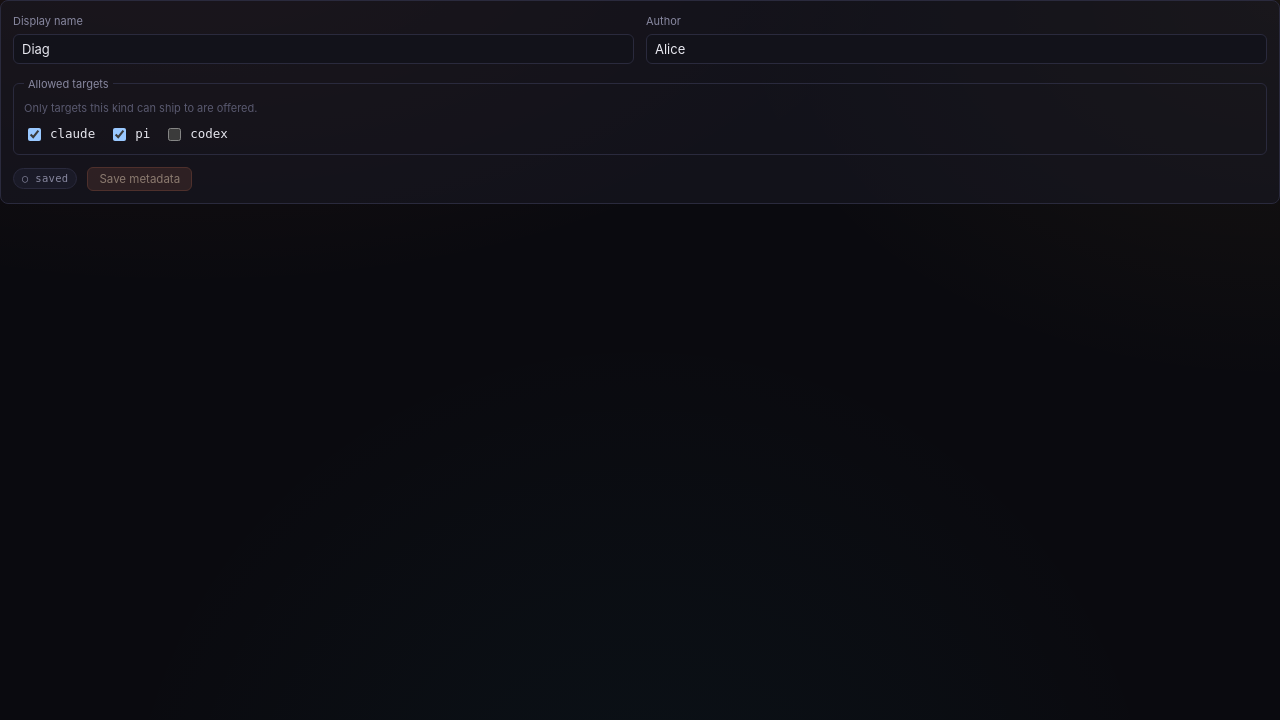
Test: MetadataForm — dropping a target › Cancel on the confirm aborts without re-issuing
The image size is (1280, 720).
Click the checkbox labelled "claude" at (34, 134), box [28,128,41,140]
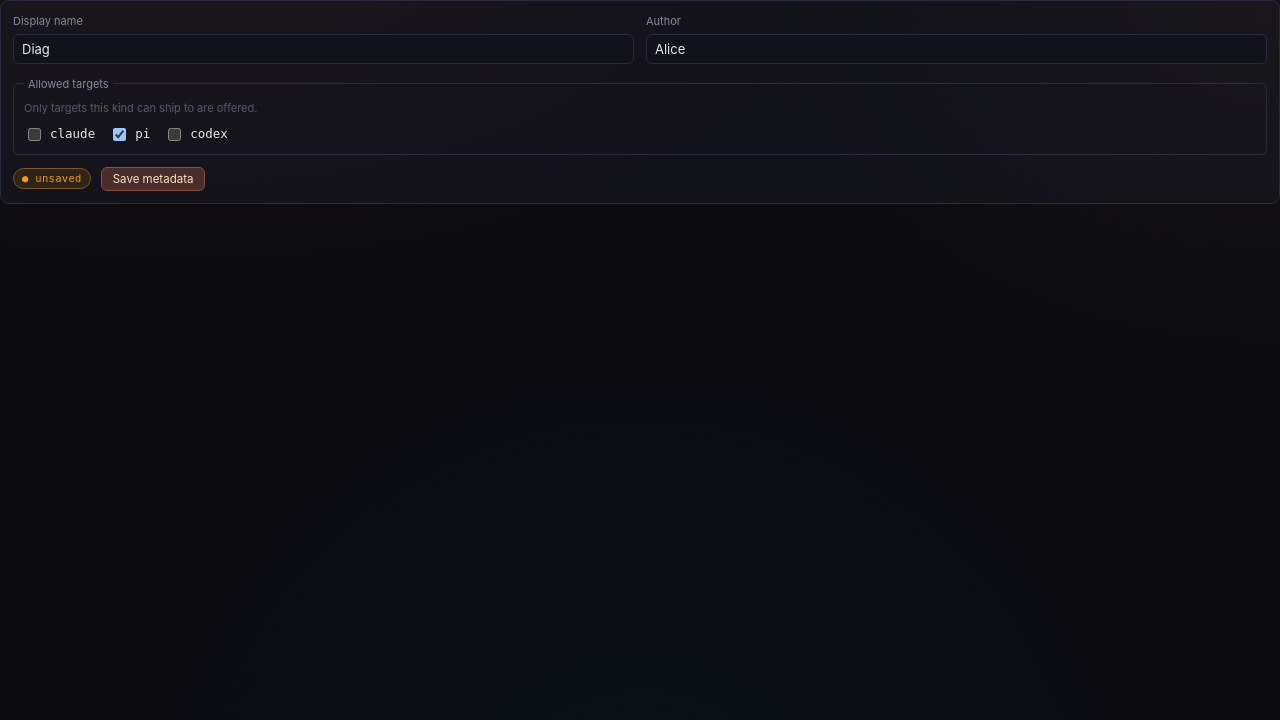
Click the button "Save metadata" at (153, 178), box [101,166,205,190]
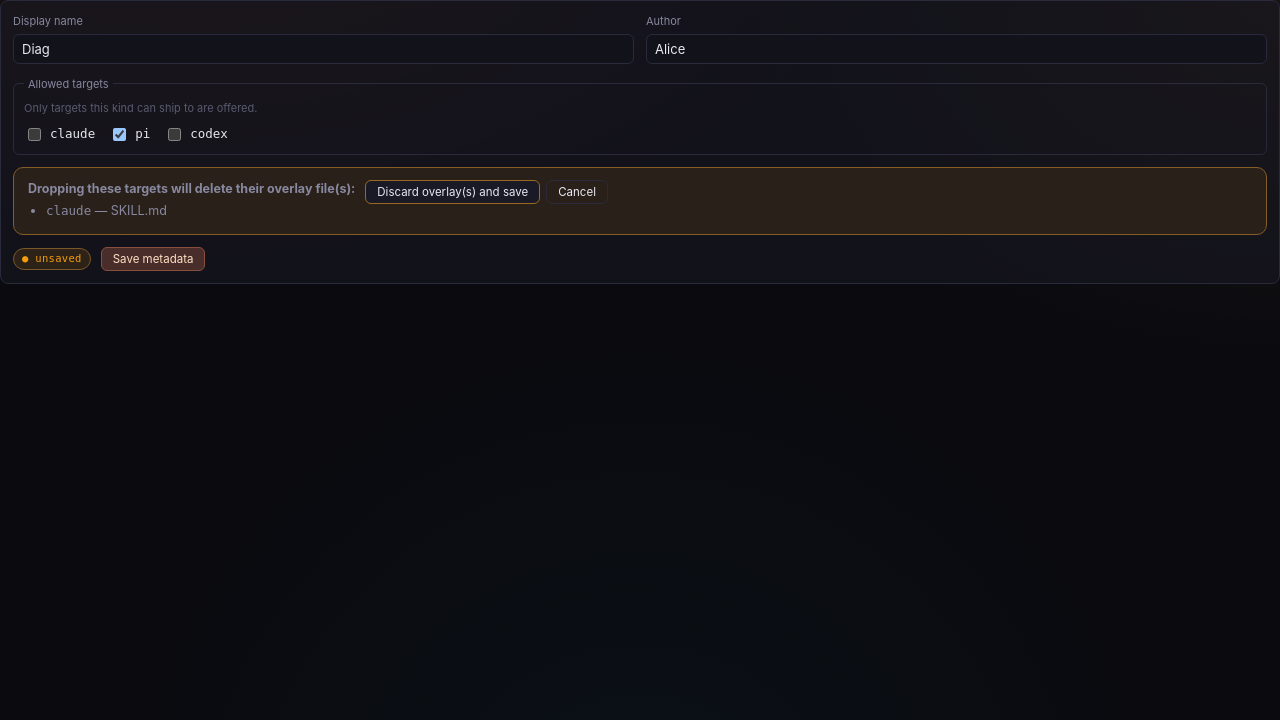
Click the button "Cancel" at (577, 192), box [546,180,608,204]
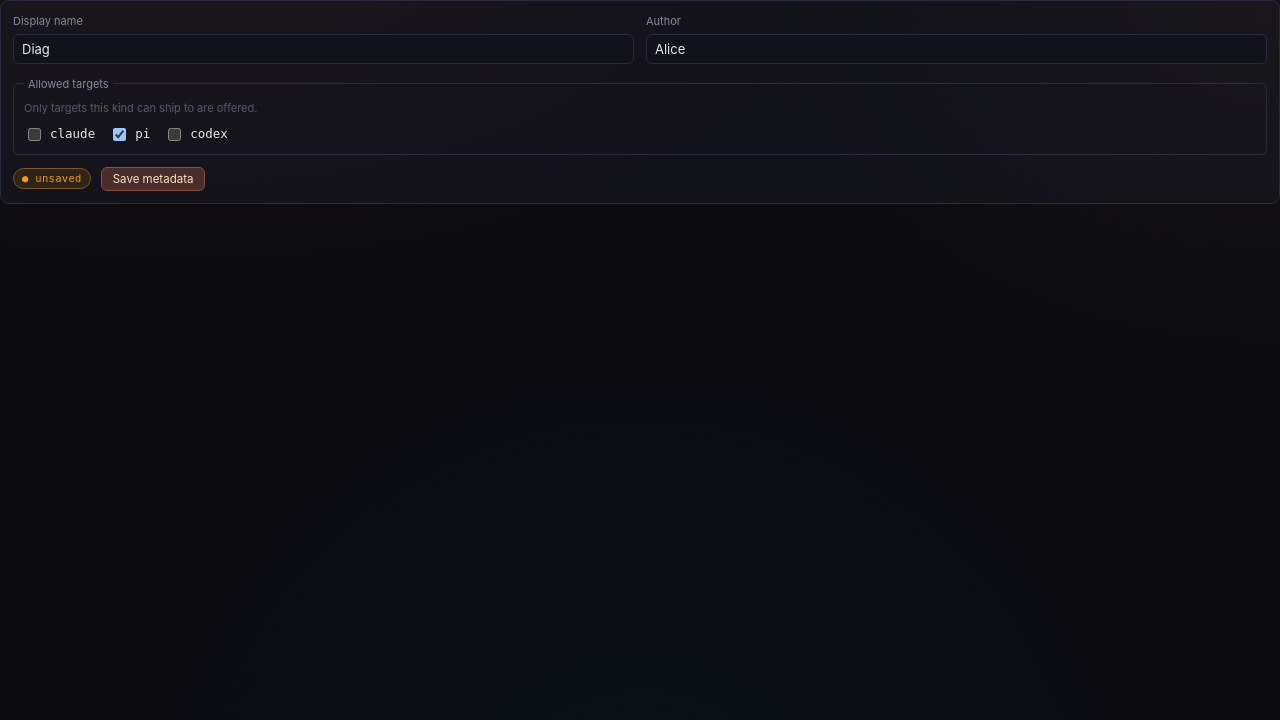
Now the dialog is gone
